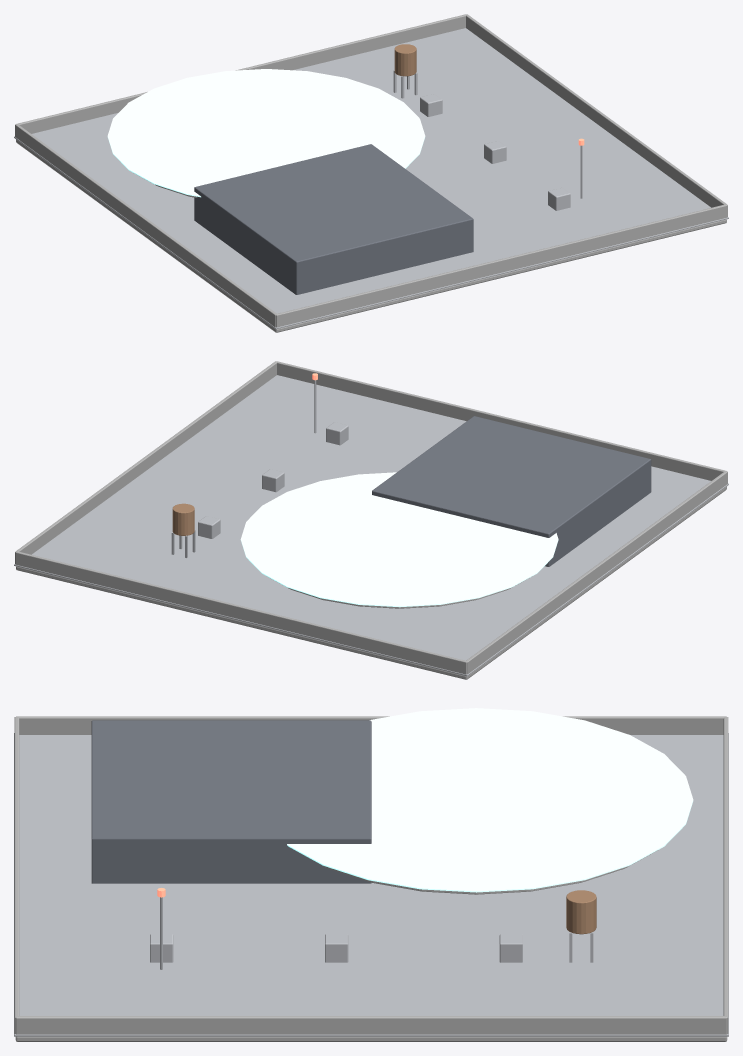
Rendered from roof_12x12_heli_office.glb.
The picture shows the model from 3 angles, top to bottom: view 1: azimuth 30°, elevation 25°; view 2: azimuth 150°, elevation 25°; view 3: azimuth 270°, elevation 25°; orthographic projection. The views are drawn at different scales.
Parts seen in each view (by area): view 1: int_slab_edge, ext_penthouse, ext_helipad_ring, ext_parapet, int_slab, ext_ac, ext_tank; view 2: int_slab_edge, ext_helipad_ring, ext_penthouse, ext_parapet, int_slab, ext_ac, ext_tank; view 3: int_slab_edge, ext_helipad_ring, ext_penthouse, ext_parapet, int_slab, ext_ac, ext_tank, ext_helipad.
Boxes of the visible parts, bbox=[...] form: int_slab_edge: bbox=[14, 28, 728, 329]; ext_penthouse: bbox=[194, 144, 473, 294]; ext_helipad_ring: bbox=[107, 69, 425, 197]; ext_parapet: bbox=[15, 14, 727, 327]; int_slab: bbox=[16, 139, 726, 332]; ext_ac: bbox=[420, 94, 570, 210]; ext_tank: bbox=[394, 44, 416, 76]; int_slab_edge: bbox=[14, 375, 728, 676]; ext_helipad_ring: bbox=[240, 472, 558, 607]; ext_penthouse: bbox=[372, 416, 651, 566]; ext_parapet: bbox=[15, 361, 727, 674]; int_slab: bbox=[16, 486, 726, 679]; ext_ac: bbox=[198, 422, 348, 538]; ext_tank: bbox=[172, 503, 194, 535]; int_slab_edge: bbox=[14, 733, 728, 1036]; ext_helipad_ring: bbox=[287, 708, 693, 892]; ext_penthouse: bbox=[91, 720, 371, 883]; ext_parapet: bbox=[14, 716, 728, 1034]; int_slab: bbox=[15, 1036, 727, 1041]; ext_ac: bbox=[150, 934, 522, 962]; ext_tank: bbox=[566, 890, 596, 934]; ext_helipad: bbox=[295, 850, 657, 894].
Bounding box in the file's own units: 12.26 × 1.73 × 12.26.
